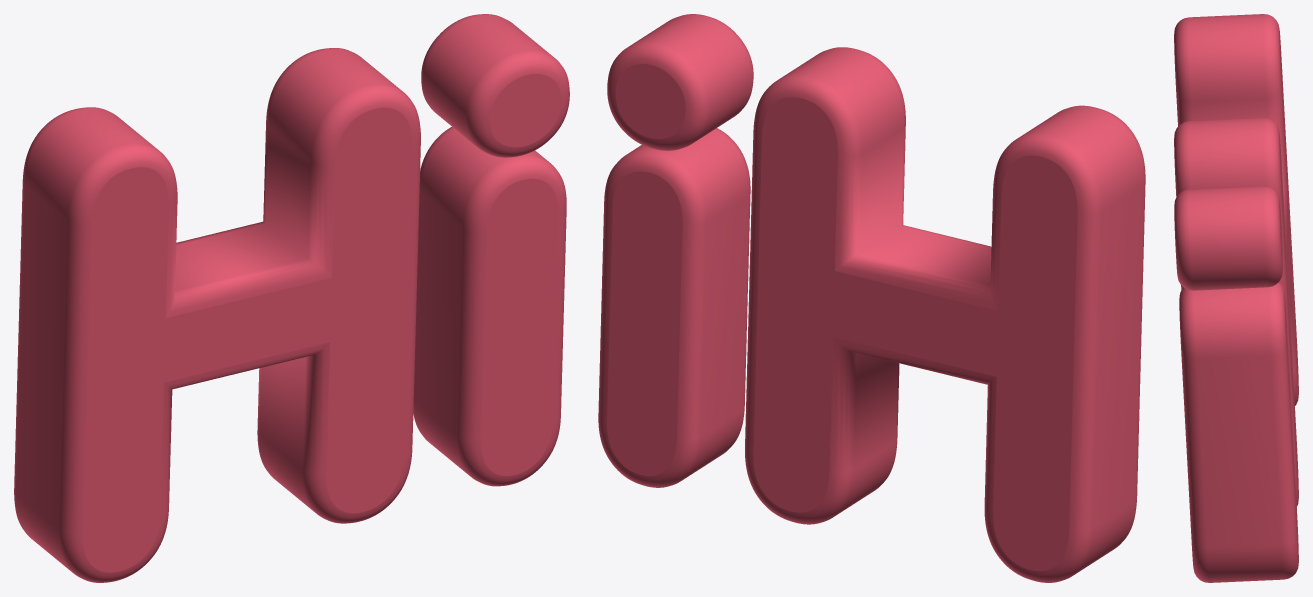
The picture shows the model from 3 angles, left to right: view 1: azimuth 30°, elevation 25°; view 2: azimuth 150°, elevation 25°; view 3: azimuth 270°, elevation 25°; orthographic projection. The views are drawn at different scales.
Visible parts, largest first — view 1: Text; view 2: Text; view 3: Text.
Boxes of the visible parts, x1,y1,x2,y2 form: Text: (14,14,569,582); Text: (598,14,1145,582); Text: (1174,14,1298,582).
Size of the model in its own units: 1.76 by 1.5 by 0.4363.
